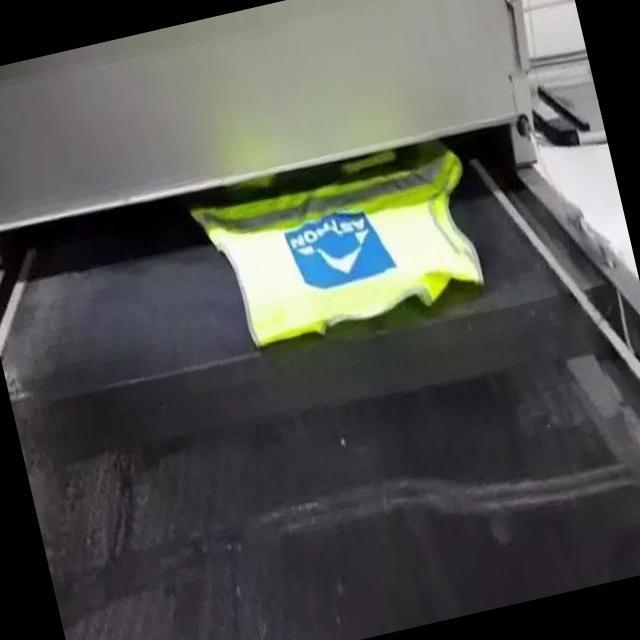Safety Vest: (190, 144, 495, 358)
